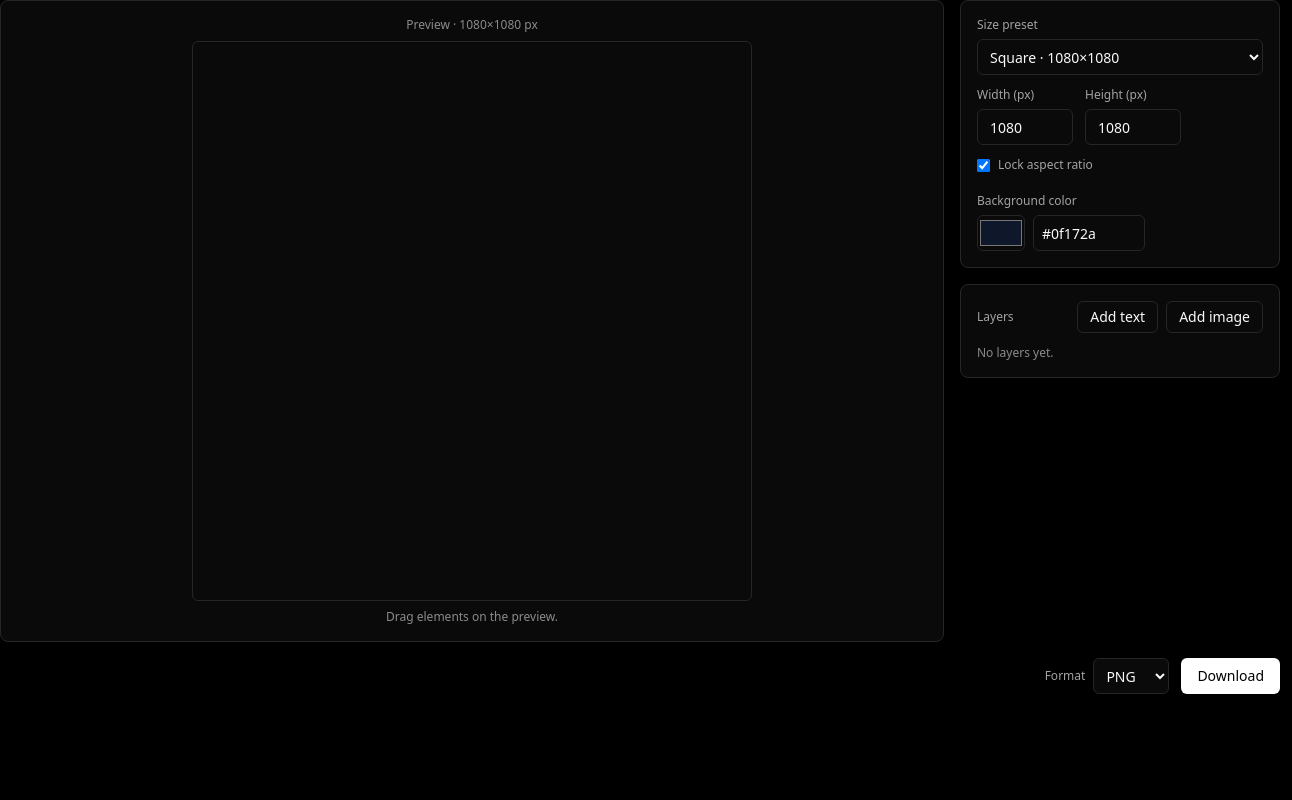
Test: BannerMakerTool › shows an error when rendering fails
This screenshot has width=1292, height=800.
Step 1. Click the button "Download" → (1231, 676), box [1181,658,1280,694]
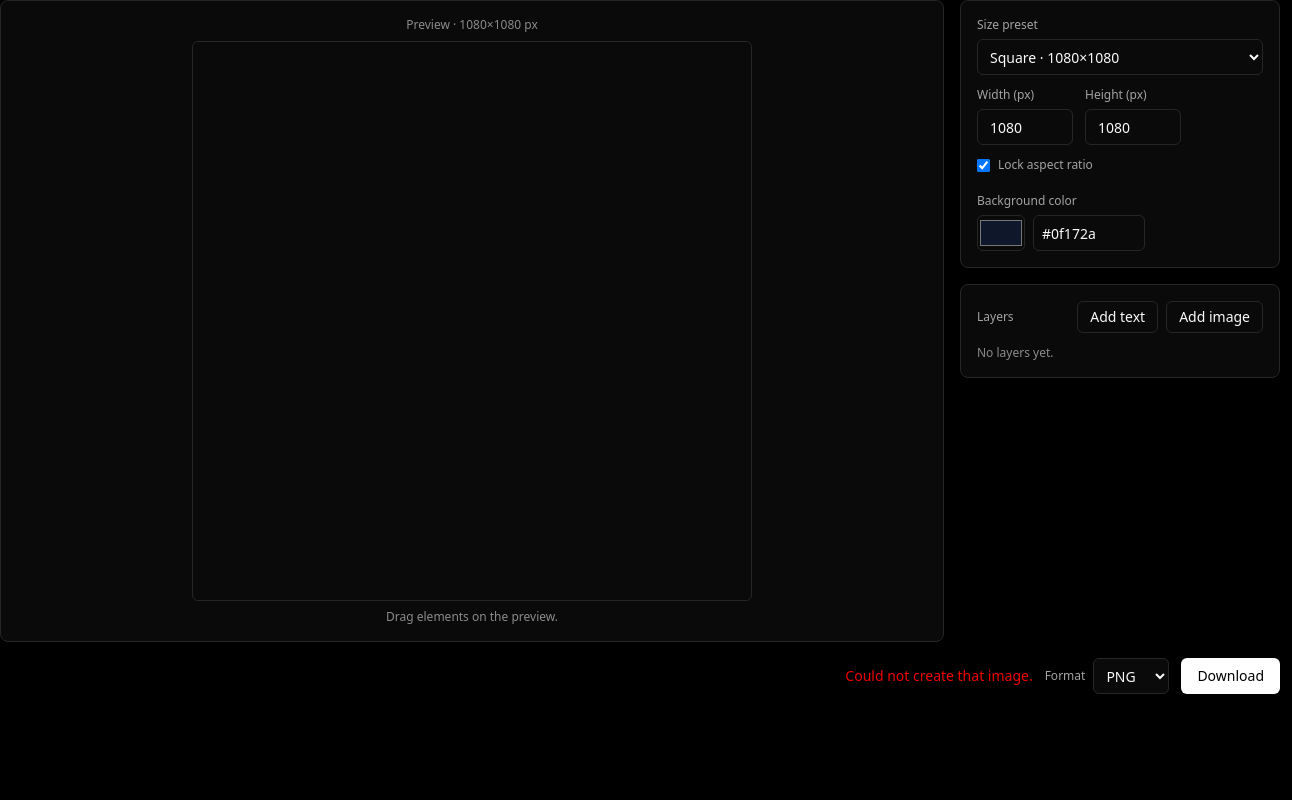
Check: the message reads "Could not create that image.", box [845,666,1033,685]
